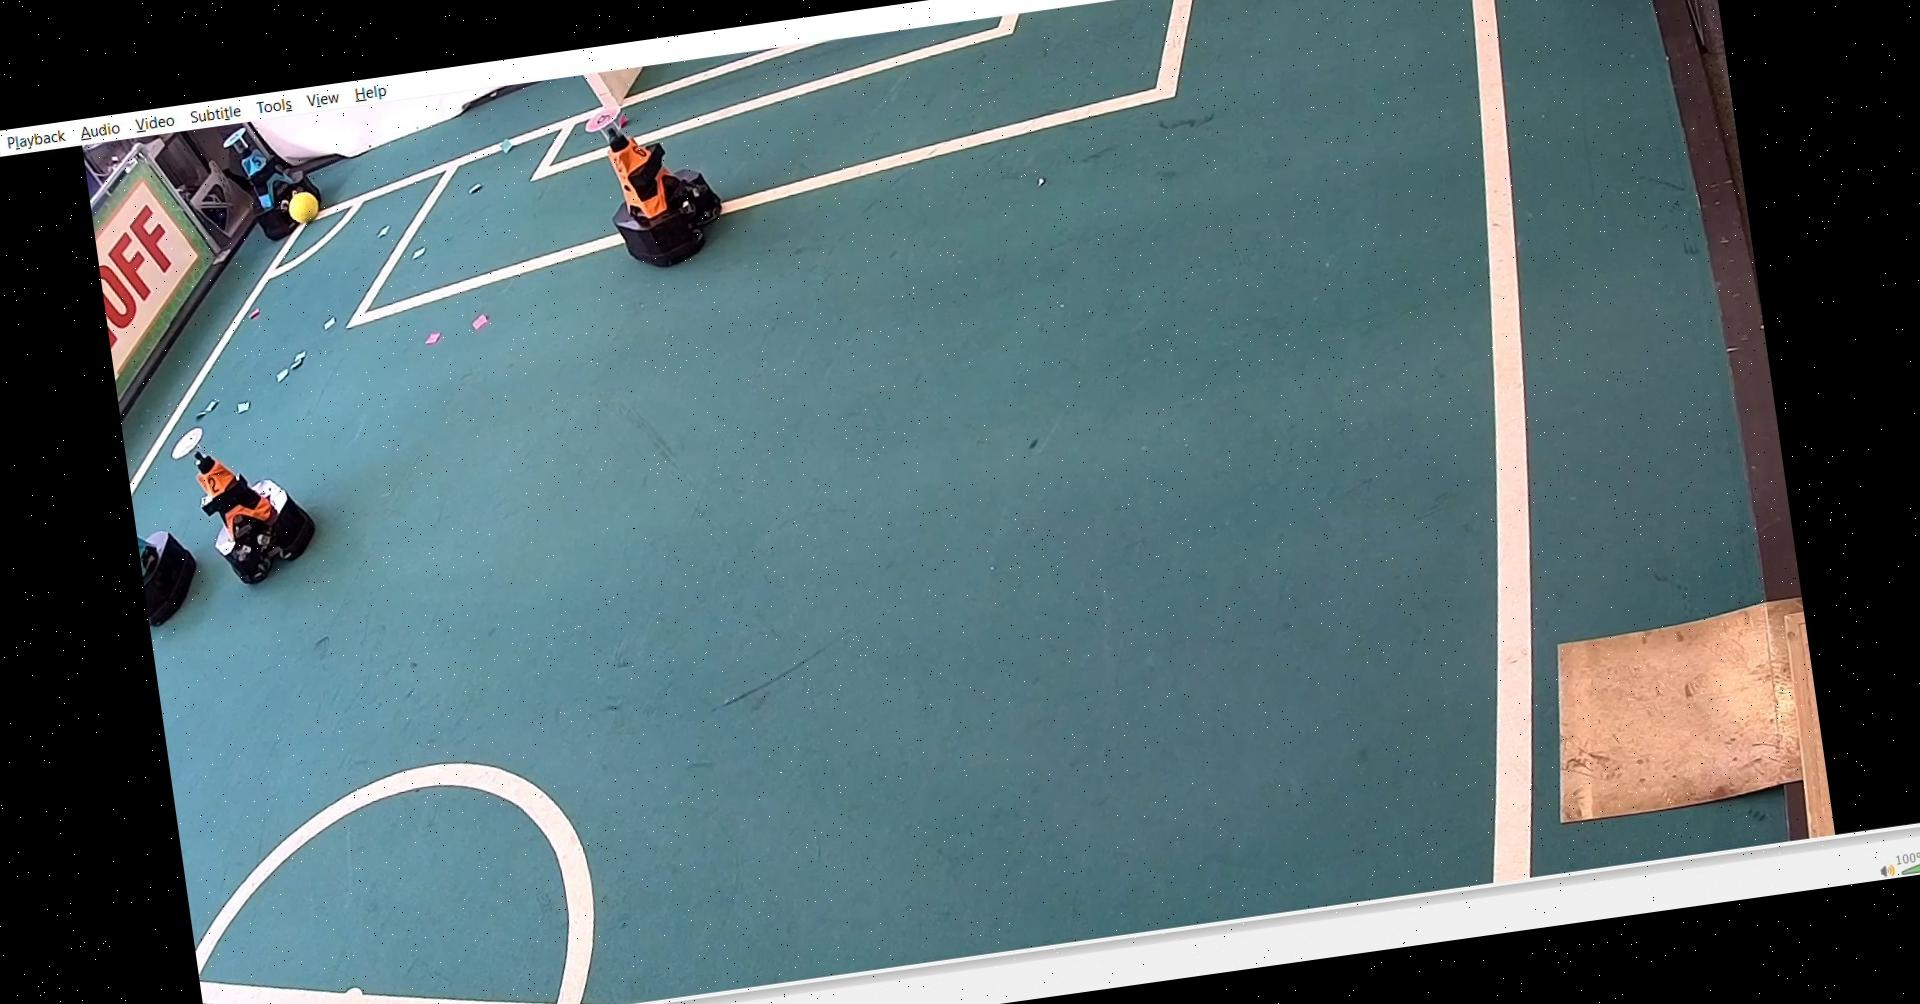Ball: (281, 184, 325, 226)
Team_Blue: (218, 117, 338, 242)
Team_Red: (169, 402, 347, 611), (579, 81, 742, 283)
